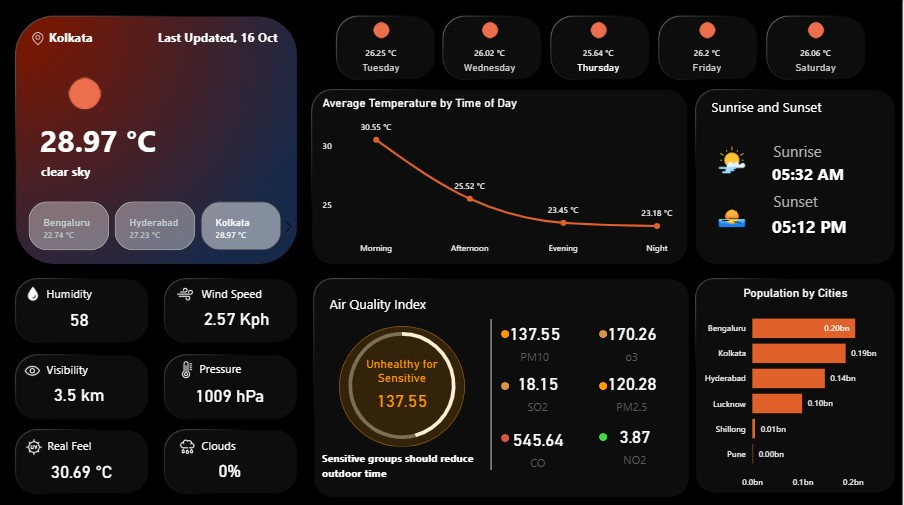

Layout of this report page (visuals, bound fields, positions):
{"tool":"powerbi","page":{"name":"Page 1","canvas":[1280,720],"ordinal":0},"visuals":[{"type":"advancedSlicerVisual","fields":{"Values":["current_weather_report.name"]},"box":[17,280.6,409.6,79.4],"z":0},{"type":"shape","box":[58.1,137.5,211.2,121.9],"z":1000},{"type":"shape","box":[59.5,219.7,425.2,45.4],"z":2000},{"type":"cardVisual","fields":{"Data":["Min(forecast.weather_icon)"]},"box":[59.5,70.9,107.7,89.3],"z":3000},{"type":"shape","box":[70.9,41.1,114.8,28.3],"z":4000},{"type":"image","box":[41.1,39.7,28.3,29.8],"z":5000},{"type":"textbox","box":[62.4,399.7,131.8,35.4],"z":6000},{"type":"image","box":[32.6,396.9,31.2,39.7],"z":7000},{"type":"textbox","box":[62.4,507.4,131.8,35.4],"z":8000},{"type":"image","box":[29.8,506,35.4,39.7],"z":9000},{"type":"textbox","box":[282,399.7,131.8,35.4],"z":10000},{"type":"image","box":[246.6,396.9,34,39.7],"z":11000},{"type":"textbox","box":[279.2,506,131.8,35.4],"z":12000},{"type":"image","box":[249.4,506,34,35.4],"z":13000},{"type":"textbox","box":[63.8,615.1,131.8,35.4],"z":14000},{"type":"textbox","box":[282,615.1,131.8,35.4],"z":15000},{"type":"image","box":[32.6,613.7,34,39.7],"z":16000},{"type":"image","box":[249.4,613.7,35.4,39.7],"z":17000},{"type":"card","fields":{"Values":["Sum(current_weather_report.main.humidity)"]},"box":[68,419.5,90.7,65.2],"z":18000},{"type":"card","fields":{"Values":["1_measure.feels_like"]},"box":[48.2,635,137.5,65.2],"z":19000},{"type":"card","fields":{"Values":["Min(current_weather_report.pressure_hPa)"]},"box":[263.6,527.2,126.1,65.2],"z":20000},{"type":"card","fields":{"Values":["Min(current_weather_report.visibility_in_km)"]},"box":[68,525.8,90.7,65.2],"z":21000},{"type":"card","fields":{"Values":["1_measure.wind_speed"]},"box":[263.6,418.1,146,65.2],"z":22000},{"type":"card","fields":{"Values":["Min(current_weather_report.clouds_all_%)"]},"box":[263.6,633.5,126.1,65.2],"z":23000},{"type":"advancedSlicerVisual","fields":{"Values":["forecast.day_name"]},"box":[463.5,14.2,772.4,102],"z":24000},{"type":"shape","box":[225.9,36.2,181,30.4],"z":25000},{"type":"lineChart","title":"Average Temperature by Time of Day","fields":{"Category":["forecast.TimePeriod"],"Y":["Avg(forecast.list.main.temp)"]},"box":[453.5,136.1,537.2,233.9],"z":26000},{"type":"textbox","box":[1004.9,133.2,231,38.3],"z":27000},{"type":"shape","box":[1095.6,219.7,109.1,52.4],"z":28000},{"type":"shape","box":[1095.6,292,112,56.7],"z":29000},{"type":"textbox","box":[1092.8,194.2,120.5,41.1],"z":30000},{"type":"textbox","box":[1092.8,265,120.5,41.1],"z":31000},{"type":"textbox","box":[463.5,412.4,231,38.3],"z":32000},{"type":"card","fields":{"Values":["Sum(air_quality.list.components.o3)"]},"box":[828.1,446.1,138.5,74.4],"z":33000},{"type":"card","fields":{"Values":["Sum(air_quality.list.components.pm2_5)"]},"box":[828.1,517.5,138.5,74.4],"z":34000},{"type":"card","fields":{"Values":["Sum(air_quality.list.components.pm10)"]},"box":[689.6,446.1,138.5,74.4],"z":35000},{"type":"card","fields":{"Values":["Sum(air_quality.list.components.so2)"]},"box":[693.9,517.5,138.5,74.4],"z":36000},{"type":"card","fields":{"Values":["Sum(air_quality.list.components.no2)"]},"box":[832.4,591.9,138.5,74.4],"z":37000},{"type":"card","fields":{"Values":["Sum(air_quality.list.components.co)"]},"box":[693.9,596.3,138.5,74.4],"z":38000},{"type":"shape","box":[711.4,468,11.7,11.7],"z":39000},{"type":"shape","box":[849.9,613.8,11.7,11.7],"z":40000},{"type":"shape","box":[849.9,540.9,11.7,11.7],"z":41000},{"type":"shape","box":[711.4,615.2,11.7,11.7],"z":42000},{"type":"shape","box":[849.9,468,11.7,11.7],"z":43000},{"type":"shape","box":[711.4,540.9,11.7,11.7],"z":44000},{"type":"image","box":[1014.7,202.6,48.1,48.1],"z":45000},{"type":"image","box":[1014.7,281.4,48.1,48.1],"z":46000},{"type":"shape","box":[658.8,451.8,76.7,214.3],"z":47000},{"type":"donutChart","fields":{"Y":["Sum(air_quality.list.components.pm10)","1_measure.pm10_left_value"]},"box":[463.5,446.5,215.4,199.8],"z":48000},{"type":"card","fields":{"Values":["Sum(air_quality.list.components.pm10)"]},"box":[513.1,506,116.2,85],"z":49000},{"type":"shape","box":[481.9,462,178.6,171.5],"z":50000},{"type":"shape","box":[457.8,636.4,232.4,45.4],"z":51000},{"type":"barChart","title":"Population by Cities","fields":{"Category":["forecast.city.name"],"Y":["Sum(forecast.city.population)"]},"box":[990.4,405.4,276.6,295.4],"z":51001}]}

Visuals, with their boxes in screenshot pixels (x1, y1, x2, y2), scaled from the page's 1280x720 canvas onto the 904x505 screenshot:
advancedSlicerVisual - current_weather_report.name: Rect(12, 197, 301, 252)
shape: Rect(41, 96, 190, 182)
shape: Rect(42, 154, 342, 186)
cardVisual - Min(forecast.weather_icon): Rect(42, 50, 118, 112)
shape: Rect(50, 29, 131, 49)
image: Rect(29, 28, 49, 49)
textbox: Rect(44, 280, 137, 305)
image: Rect(23, 278, 45, 306)
textbox: Rect(44, 356, 137, 381)
image: Rect(21, 355, 46, 383)
textbox: Rect(199, 280, 292, 305)
image: Rect(174, 278, 198, 306)
textbox: Rect(197, 355, 290, 380)
image: Rect(176, 355, 200, 380)
textbox: Rect(45, 431, 138, 456)
textbox: Rect(199, 431, 292, 456)
image: Rect(23, 430, 47, 458)
image: Rect(176, 430, 201, 458)
card - Sum(current_weather_report.main.humidity): Rect(48, 294, 112, 340)
card - 1_measure.feels_like: Rect(34, 445, 131, 491)
card - Min(current_weather_report.pressure_hPa): Rect(186, 370, 275, 416)
card - Min(current_weather_report.visibility_in_km): Rect(48, 369, 112, 415)
card - 1_measure.wind_speed: Rect(186, 293, 289, 339)
card - Min(current_weather_report.clouds_all_%): Rect(186, 444, 275, 490)
advancedSlicerVisual - forecast.day_name: Rect(327, 10, 873, 82)
shape: Rect(160, 25, 287, 47)
"Average Temperature by Time of Day" lineChart: Rect(320, 95, 700, 260)
textbox: Rect(710, 93, 873, 120)
shape: Rect(774, 154, 851, 191)
shape: Rect(774, 205, 853, 245)
textbox: Rect(772, 136, 857, 165)
textbox: Rect(772, 186, 857, 215)
textbox: Rect(327, 289, 490, 316)
card - Sum(air_quality.list.components.o3): Rect(585, 313, 683, 365)
card - Sum(air_quality.list.components.pm2_5): Rect(585, 363, 683, 415)
card - Sum(air_quality.list.components.pm10): Rect(487, 313, 585, 365)
card - Sum(air_quality.list.components.so2): Rect(490, 363, 588, 415)
card - Sum(air_quality.list.components.no2): Rect(588, 415, 686, 467)
card - Sum(air_quality.list.components.co): Rect(490, 418, 588, 470)
shape: Rect(502, 328, 511, 336)
shape: Rect(600, 431, 609, 439)
shape: Rect(600, 379, 609, 388)
shape: Rect(502, 431, 511, 440)
shape: Rect(600, 328, 609, 336)
shape: Rect(502, 379, 511, 388)
image: Rect(717, 142, 751, 176)
image: Rect(717, 197, 751, 231)
shape: Rect(465, 317, 519, 467)
donutChart - Sum(air_quality.list.components.pm10) x 1_measure.pm10_left_value: Rect(327, 313, 479, 453)
card - Sum(air_quality.list.components.pm10): Rect(362, 355, 444, 415)
shape: Rect(340, 324, 466, 444)
shape: Rect(323, 446, 487, 478)
"Population by Cities" barChart: Rect(699, 284, 895, 492)
